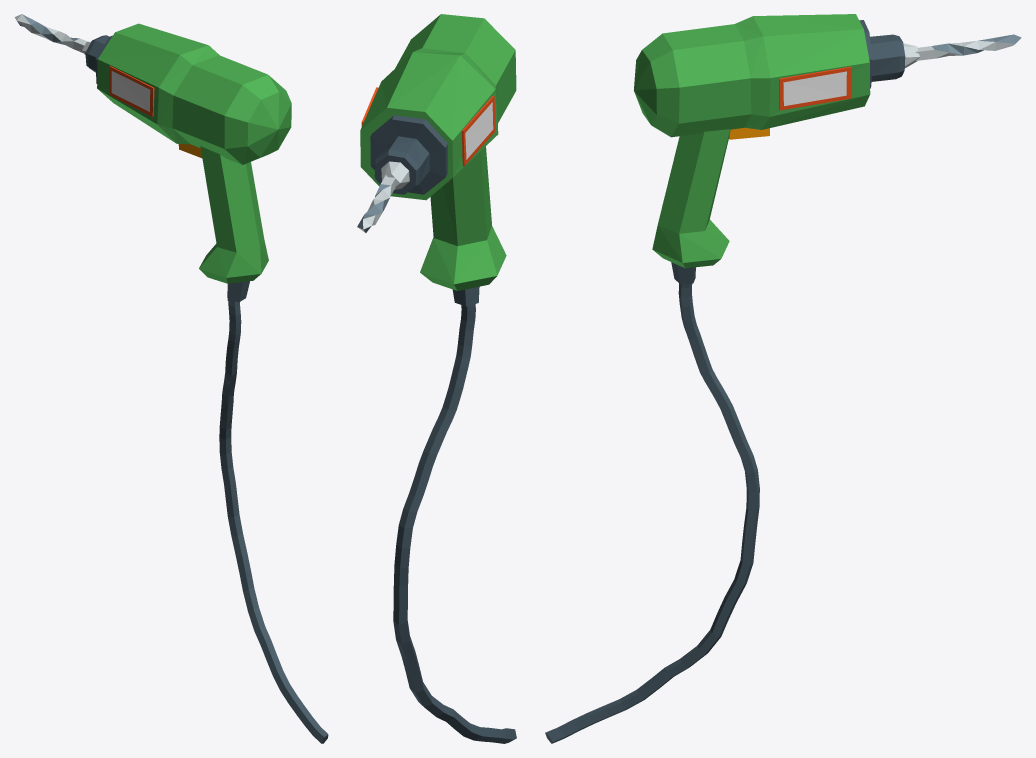
Rendered from drill.glb.
3 renders of one model, left to right at view 1: azimuth 30°, elevation 25°; view 2: azimuth 150°, elevation 25°; view 3: azimuth 270°, elevation 25°, orthographic. The views are drawn at different scales.
Parts seen in each view (by area): view 1: group1154746437, group82742289, group1723390201, group853393829, group1961794451, group665123791, group67616210, group799307983; view 2: group1154746437, group82742289, group799307983, group1723390201, group853393829, group1961794451, group67616210, group665123791, group498811532, group110894648; view 3: group1154746437, group82742289, group1723390201, group1743322392, group853393829, group799307983, group665123791, group67616210.
Part boxes in pixels (x1=…): group1154746437: x1=97, y1=23, x2=291, y2=164; group82742289: x1=199, y1=146, x2=268, y2=283; group1723390201: x1=219, y1=419, x2=282, y2=675; group853393829: x1=220, y1=301, x2=241, y2=421; group1961794451: x1=109, y1=66, x2=154, y2=116; group665123791: x1=273, y1=670, x2=328, y2=743; group67616210: x1=14, y1=14, x2=87, y2=52; group799307983: x1=85, y1=35, x2=112, y2=83; group1154746437: x1=360, y1=14, x2=516, y2=200; group82742289: x1=420, y1=146, x2=506, y2=290; group799307983: x1=370, y1=115, x2=447, y2=194; group1723390201: x1=393, y1=493, x2=471, y2=736; group853393829: x1=409, y1=304, x2=475, y2=496; group1961794451: x1=462, y1=95, x2=495, y2=166; group67616210: x1=357, y1=175, x2=395, y2=232; group665123791: x1=464, y1=723, x2=516, y2=743; group498811532: x1=381, y1=161, x2=409, y2=189; group110894648: x1=452, y1=286, x2=479, y2=306; group1154746437: x1=634, y1=14, x2=870, y2=137; group82742289: x1=652, y1=129, x2=730, y2=268; group1723390201: x1=637, y1=442, x2=759, y2=699; group1743322392: x1=779, y1=66, x2=851, y2=110; group853393829: x1=678, y1=283, x2=747, y2=446; group799307983: x1=859, y1=20, x2=905, y2=88; group665123791: x1=545, y1=690, x2=644, y2=743; group67616210: x1=915, y1=34, x2=1021, y2=60.
Bounding box in the file's own units: 0.2175 × 1.11 × 0.6845.
